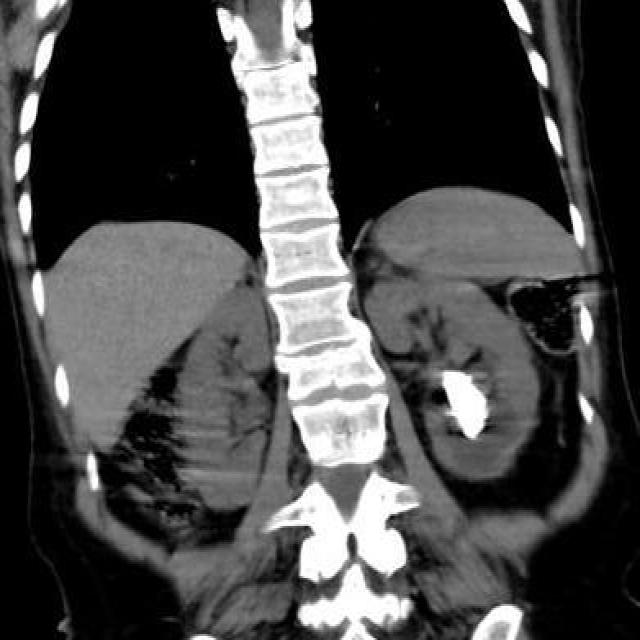Tas_Var: (434, 362, 499, 442)
